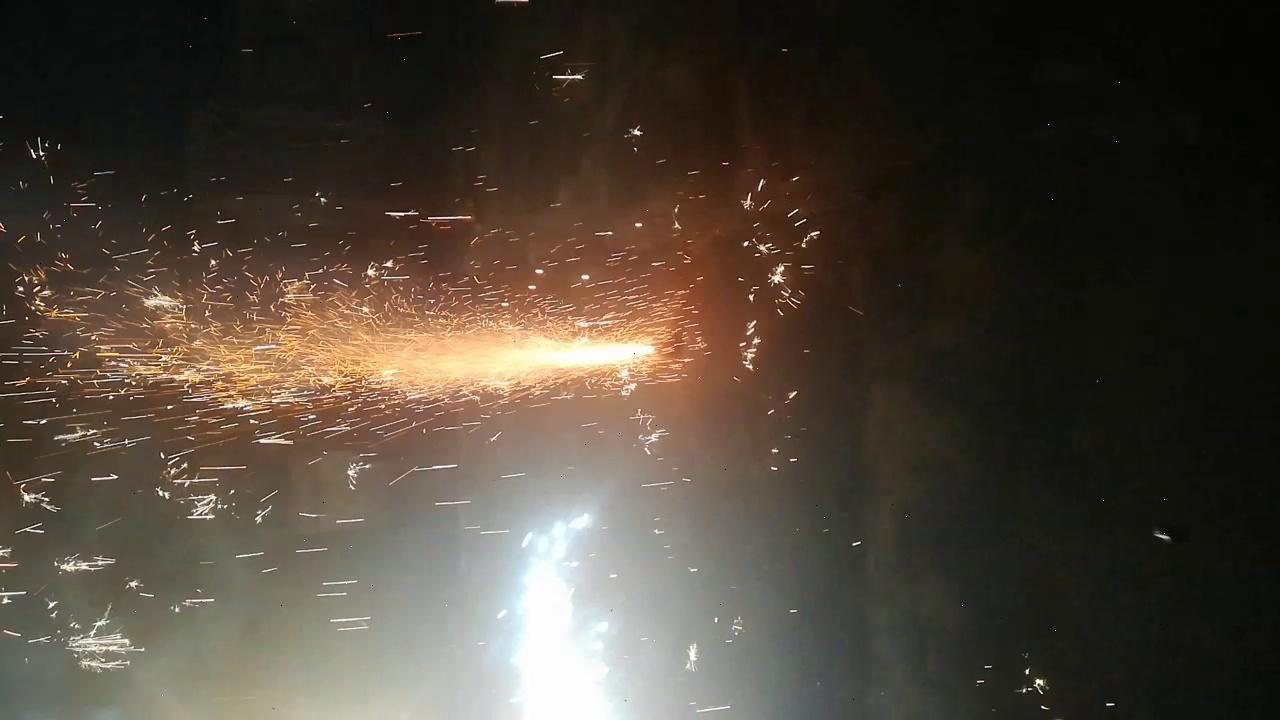fire: (405, 40, 754, 386)
